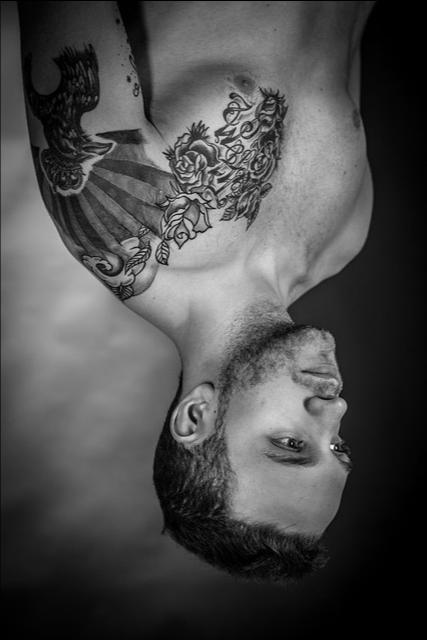Non_Gorille: (44, 26, 417, 600)
